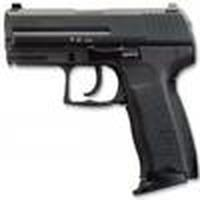gun: (2, 3, 195, 191)
